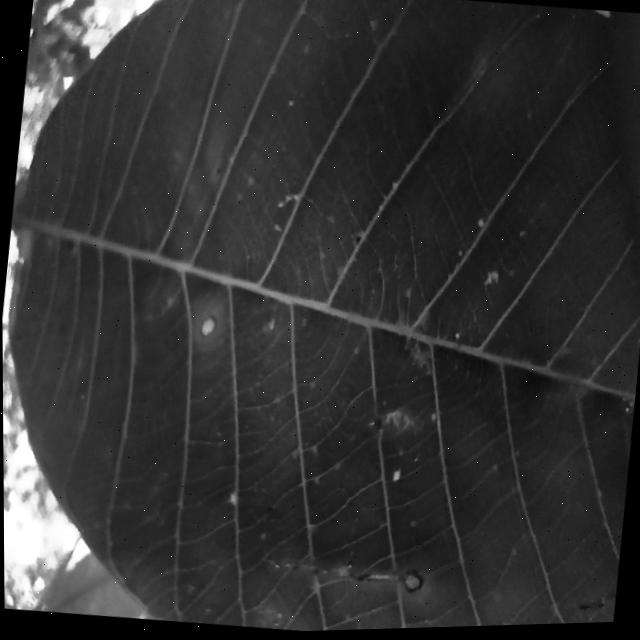Colletotrichum: (399, 570, 422, 597), (197, 315, 216, 339)
